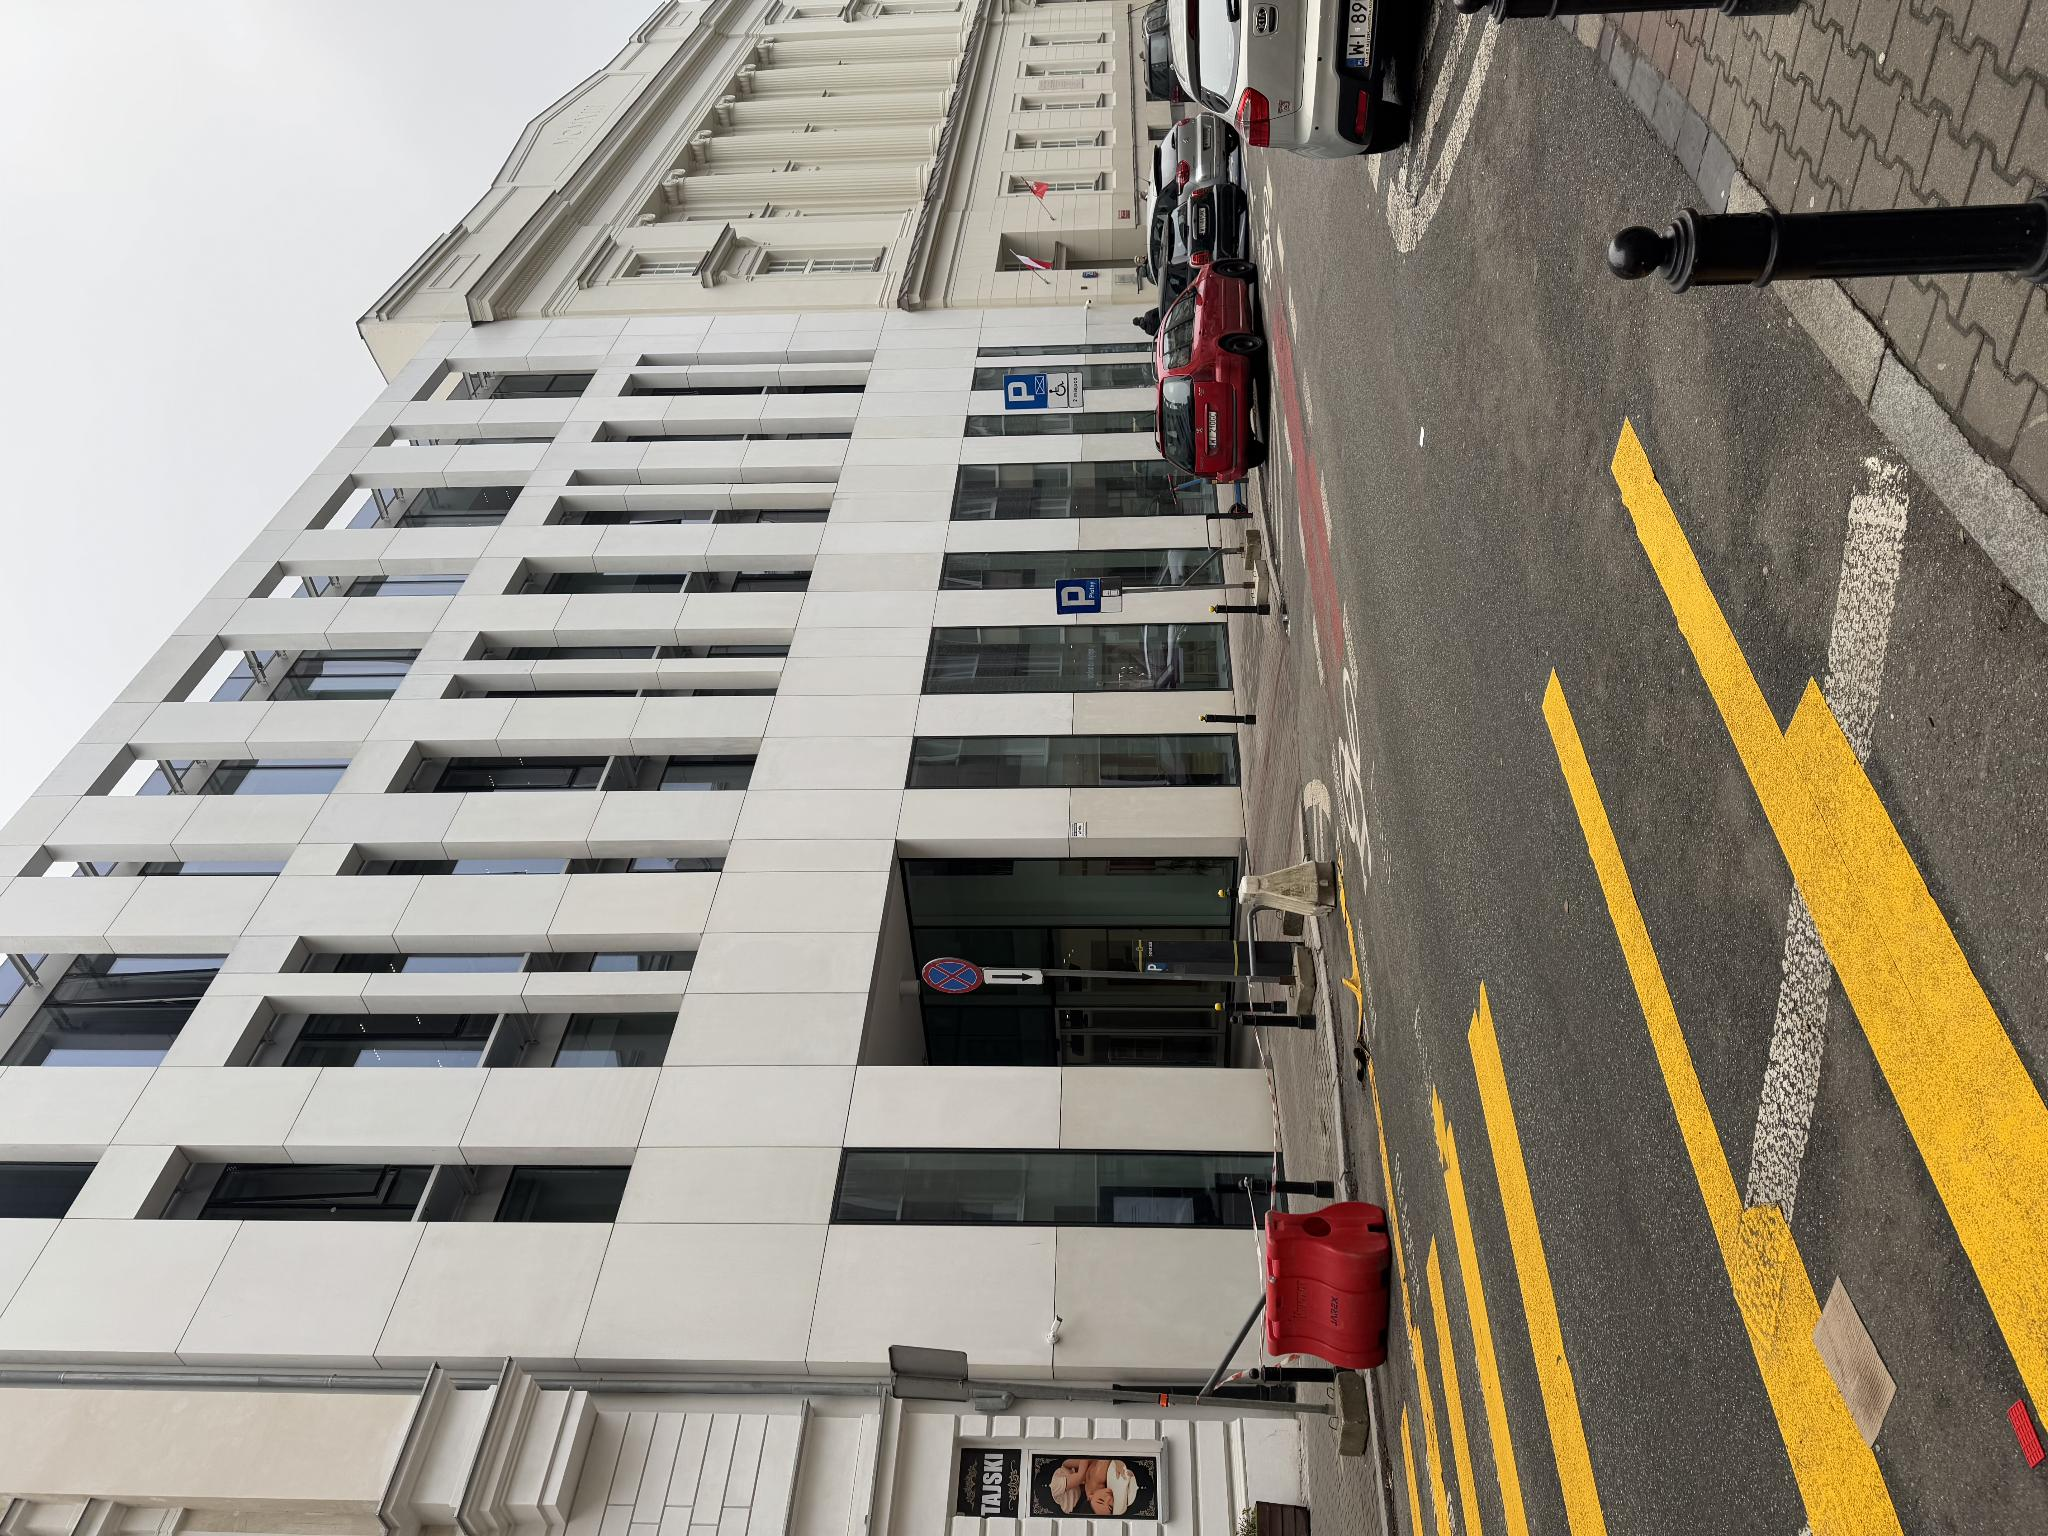information: (922, 1055, 958, 1100), (1127, 1004, 1163, 1047)
other: (552, 983, 569, 1044), (922, 1100, 959, 1121), (1127, 1049, 1163, 1068), (1129, 1070, 1163, 1083)
prohibitory: (542, 921, 579, 984)
